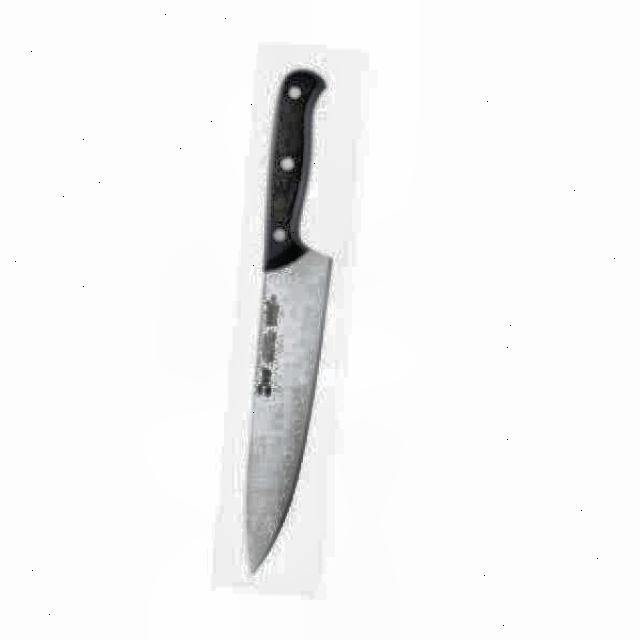knife: (244, 62, 333, 578)
